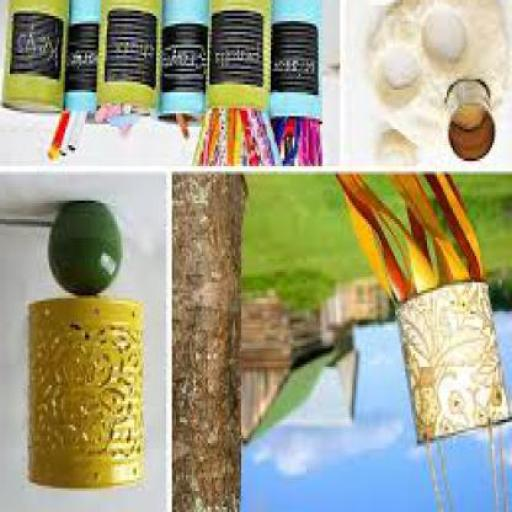metal: (28, 298, 146, 490), (395, 282, 511, 449), (6, 2, 70, 116), (212, 2, 273, 111), (101, 2, 160, 111), (273, 6, 324, 126), (160, 3, 212, 119), (447, 82, 498, 163), (71, 2, 101, 116)
